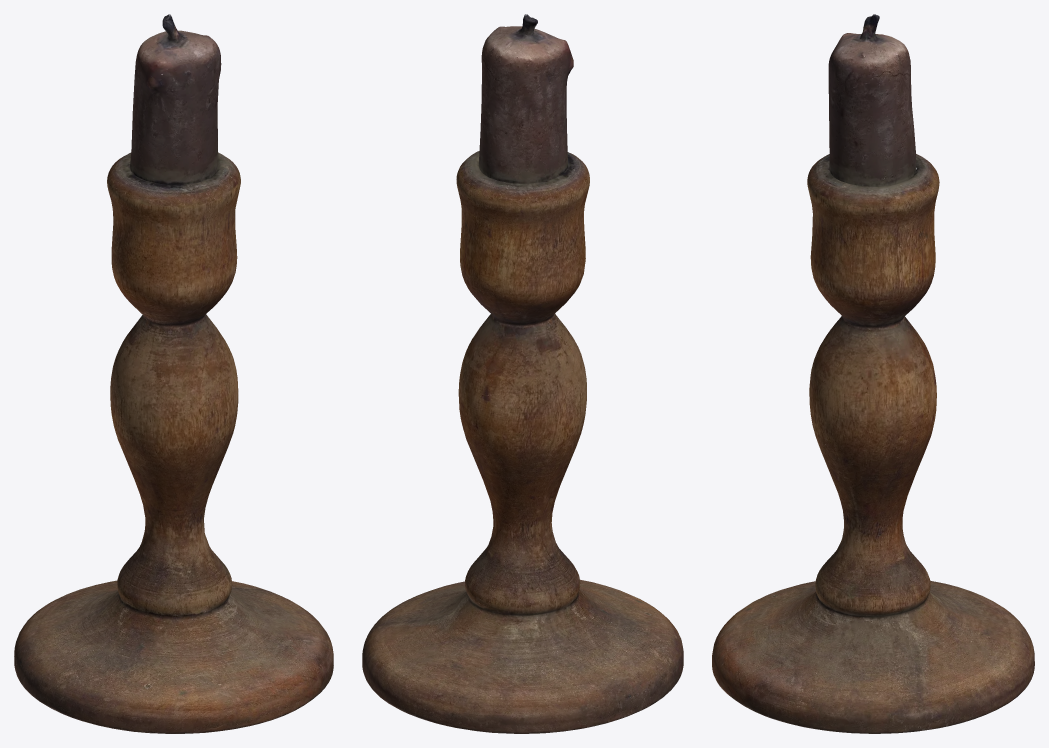
The model's file is wooden_candlestick.glb.
3 renders of one model, left to right at view 1: azimuth 30°, elevation 25°; view 2: azimuth 150°, elevation 25°; view 3: azimuth 270°, elevation 25°, orthographic.
Visible parts, largest first — view 1: wooden_candlestick; view 2: wooden_candlestick; view 3: wooden_candlestick.
Part boxes in pixels (box(x1,y1,x2,y2)): wooden_candlestick: box(14, 14, 333, 733); wooden_candlestick: box(362, 14, 683, 733); wooden_candlestick: box(712, 14, 1034, 733).
Size of the model in its own units: 0.0972 by 0.2196 by 0.0986.
Materials: 1 (1 with a texture image).
